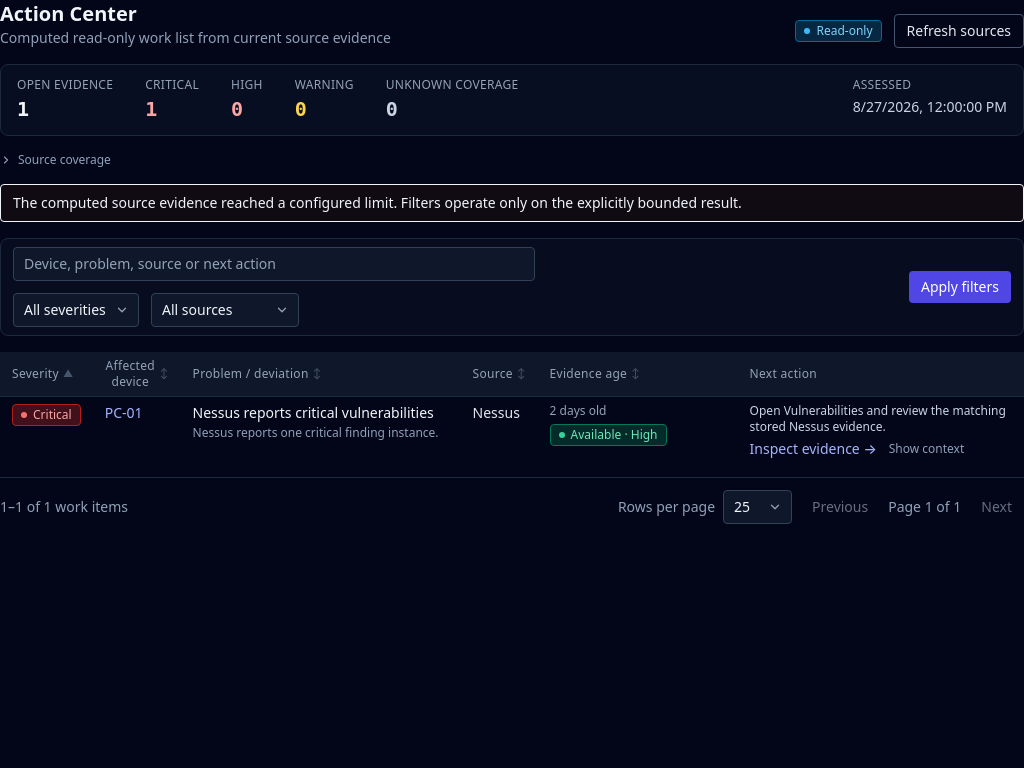
Test case: ActionCenterPage › shows a dense read-only work list with evidence age, coverage and deep links
Expected: the heading "Action Center" is shown, [0, 0, 137, 27]
Expected: the text "Nessus reports critical vulnerabilities" is shown, [193, 403, 449, 423]
Click the button "Show context". click: (927, 449)
box: [889, 441, 964, 457]
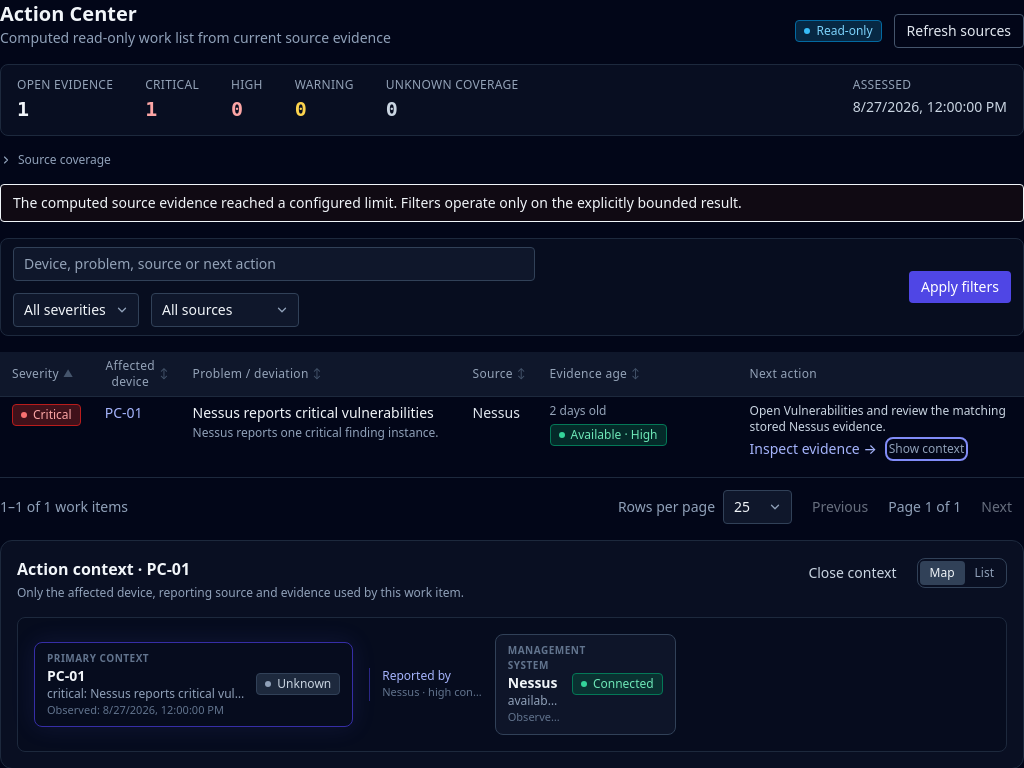
Now the heading "Action context · PC-01" is shown, box [17, 558, 190, 580]
Now the text "Reported by" is shown, box [382, 667, 451, 684]
Now the text "Nessus · high confidence" is shown, box [382, 684, 487, 700]
Click the button "Close context". click: (852, 573)
box: [796, 557, 909, 589]
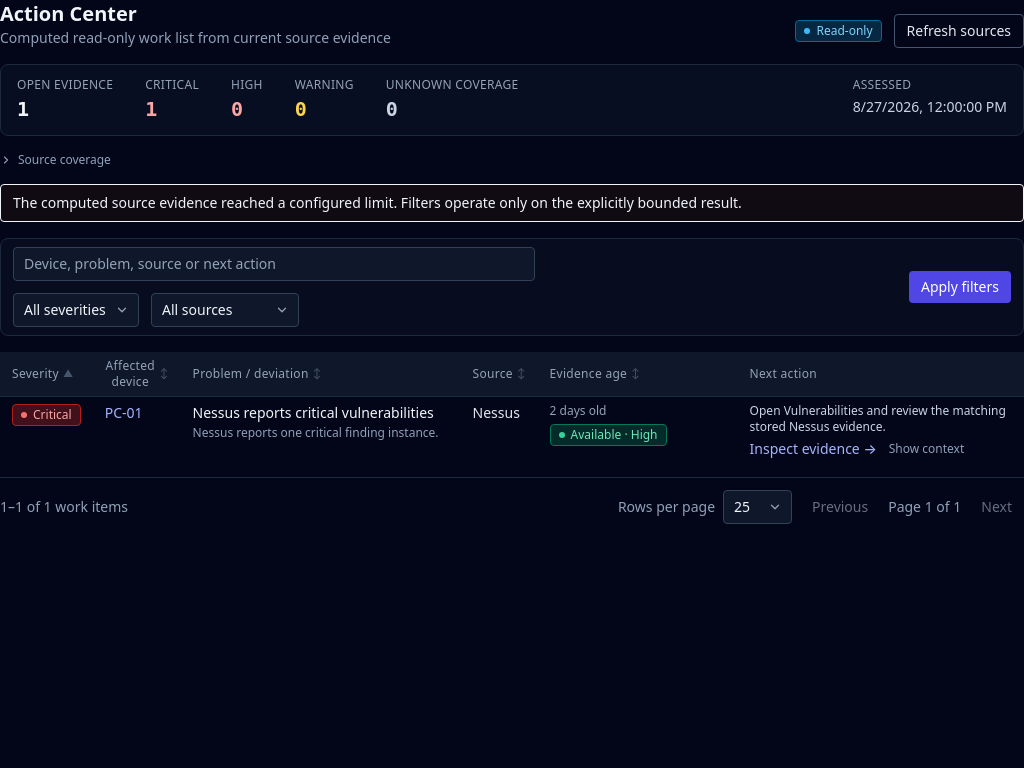
Now the heading "Action context · PC-01" is gone
